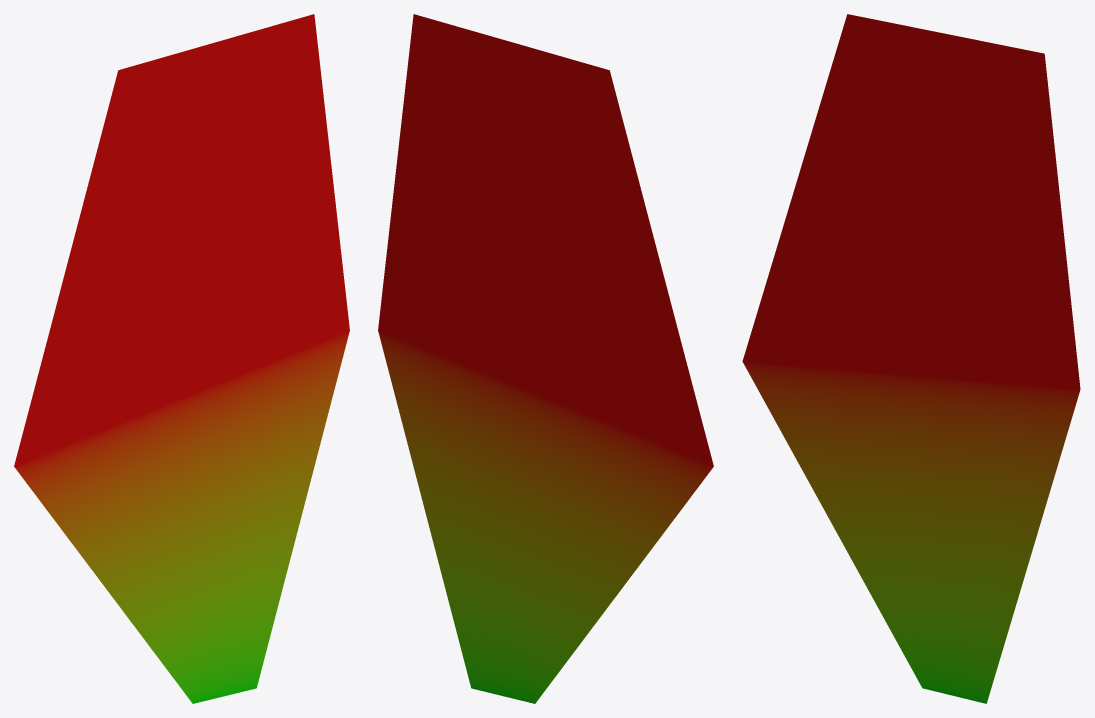
Rendered from Carnation Weed_LOD3_Var7_smdpecor.fbx.
The picture shows the model from 3 angles, left to right: view 1: azimuth 30°, elevation 25°; view 2: azimuth 150°, elevation 25°; view 3: azimuth 330°, elevation 25°; orthographic projection.
Visible parts, largest first — view 1: _3157_Var7_LOD3; view 2: _3157_Var7_LOD3; view 3: _3157_Var7_LOD3.
Part boxes in pixels (box(x1,y1,x2,y2)): _3157_Var7_LOD3: box(14, 14, 349, 703); _3157_Var7_LOD3: box(378, 14, 713, 703); _3157_Var7_LOD3: box(742, 14, 1080, 703).
Bounding box in the file's own units: 10.8 × 20.28 × 1.13e-06.
